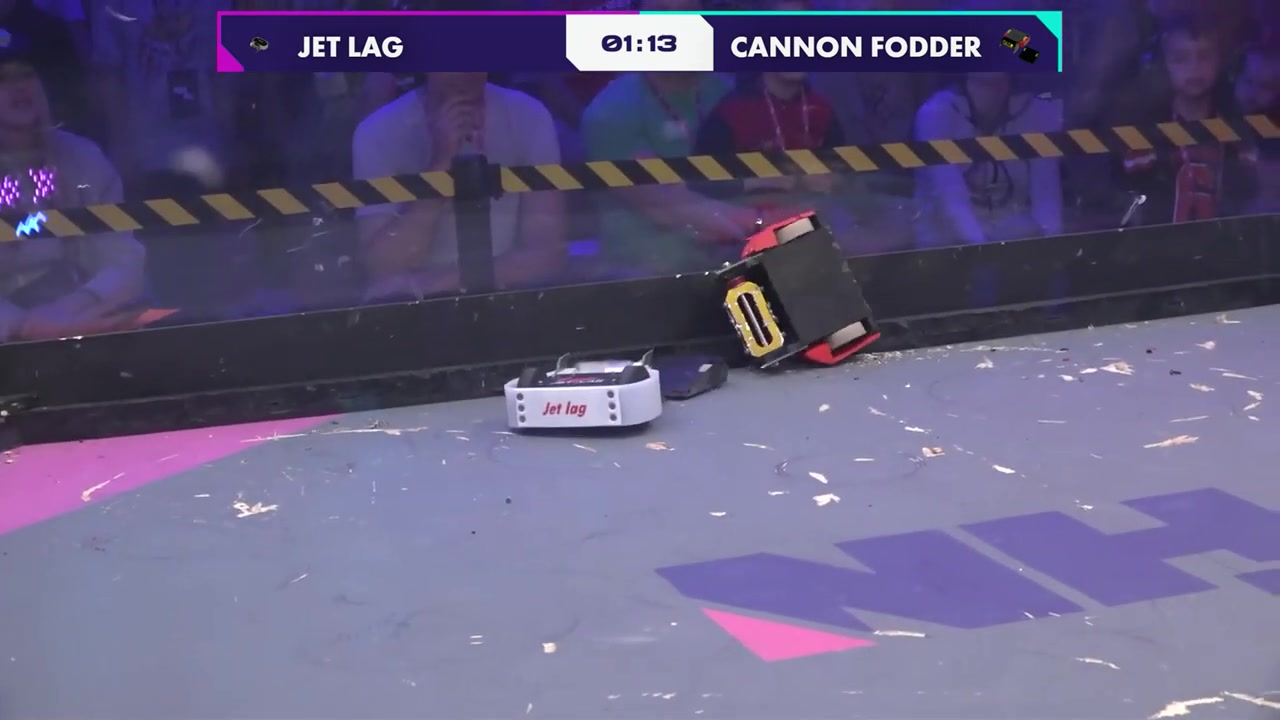combatbot: (710, 207, 878, 376), (505, 356, 664, 436)
minibot: (651, 355, 729, 400)
